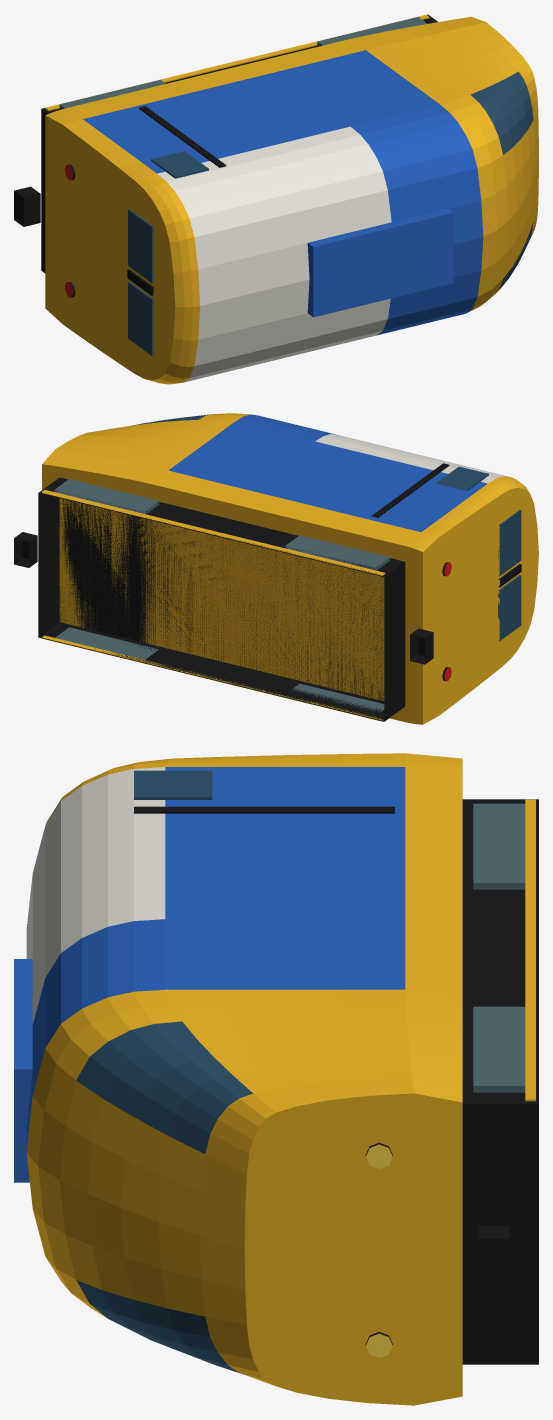
3 views of the same model, one above another, from view 1: azimuth 30°, elevation 25°; view 2: azimuth 150°, elevation 25°; view 3: azimuth 270°, elevation 25° (orthographic). The views are drawn at different scales.
Visible parts, largest first — view 1: default_body, default_roof_pod, default_screen-1-0.62, default_screen-10.62, default_skirt, default_side1_-3.40_0.75_hazard_yellow, default_coupler-1, default_side1_-3.30_3.85_glass_dark, default_pod11, default_side1_-2.51_2.10_black, default_pod-11; view 2: default_body, default_skirt, default_pod11, default_pod-11, default_side1_-3.40_0.75_hazard_yellow, default_pod1-1, default_screen-1-0.62, default_screen-10.62, default_side-1_-3.40_0.75_hazard_yellow, default_pod-1-1, default_coupler-1, default_coupler1 (+2 smaller); view 3: default_body, default_skirt, default_pod11, default_pod-11, default_roof_pod, default_side1_-3.40_0.75_hazard_yellow, default_side1_-3.30_3.85_glass_dark, default_side1_-2.51_2.10_black, default_coupler1.
Part boxes in pixels (<box>): default_body: <box>45,16,538,384</box>; default_roof_pod: <box>307,208,453,317</box>; default_screen-1-0.62: <box>128,281,153,355</box>; default_screen-10.62: <box>128,209,153,283</box>; default_skirt: <box>41,14,437,273</box>; default_side1_-3.40_0.75_hazard_yellow: <box>45,15,429,110</box>; default_coupler-1: <box>14,186,40,226</box>; default_side1_-3.30_3.85_glass_dark: <box>151,151,208,178</box>; default_pod11: <box>317,17,427,46</box>; default_side1_-2.51_2.10_black: <box>138,106,226,167</box>; default_pod-11: <box>59,80,165,109</box>; default_body: <box>42,413,538,724</box>; default_skirt: <box>38,477,405,721</box>; default_pod11: <box>54,479,159,514</box>; default_pod-11: <box>285,535,389,570</box>; default_side1_-3.40_0.75_hazard_yellow: <box>42,490,385,575</box>; default_pod1-1: <box>55,627,158,659</box>; default_screen-1-0.62: <box>498,575,521,641</box>; default_screen-10.62: <box>498,510,521,576</box>; default_side-1_-3.40_0.75_hazard_yellow: <box>42,635,383,721</box>; default_pod-1-1: <box>291,683,384,712</box>; default_coupler-1: <box>410,628,433,664</box>; default_coupler1: <box>14,532,37,567</box>; default_body: <box>26,753,462,1405</box>; default_skirt: <box>462,799,538,1364</box>; default_pod11: <box>473,1006,525,1092</box>; default_pod-11: <box>473,803,525,889</box>; default_roof_pod: <box>14,959,32,1182</box>; default_side1_-3.40_0.75_hazard_yellow: <box>525,799,535,1101</box>; default_side1_-3.30_3.85_glass_dark: <box>134,770,212,799</box>; default_side1_-2.51_2.10_black: <box>134,806,394,813</box>; default_coupler1: <box>478,1226,509,1286</box>.
Bounding box in the file's own units: 8.2 × 3.5 × 5.03.
